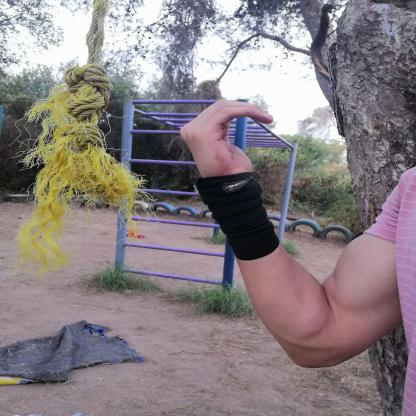HAA: (162, 89, 287, 199)
